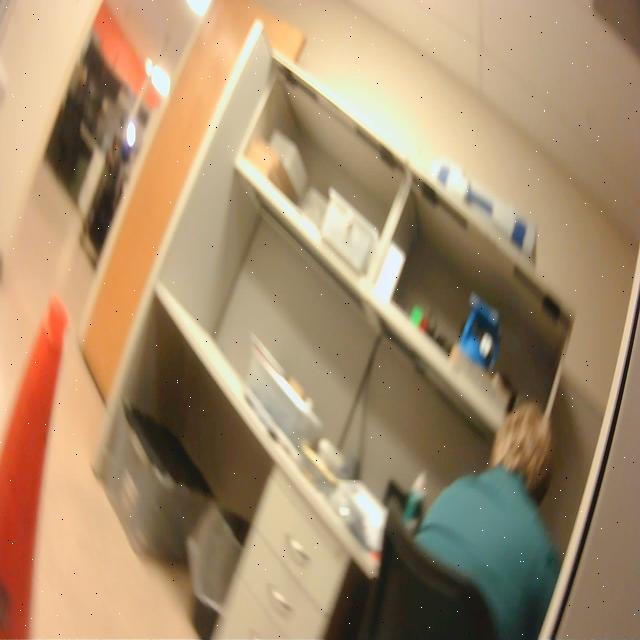traffic cone: (1, 285, 80, 640)
